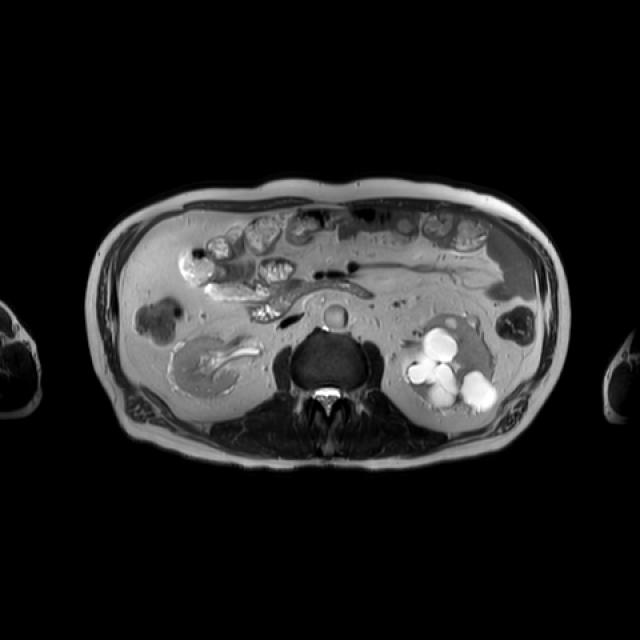sag: (171, 337, 243, 397)
sol: (403, 311, 498, 416)
